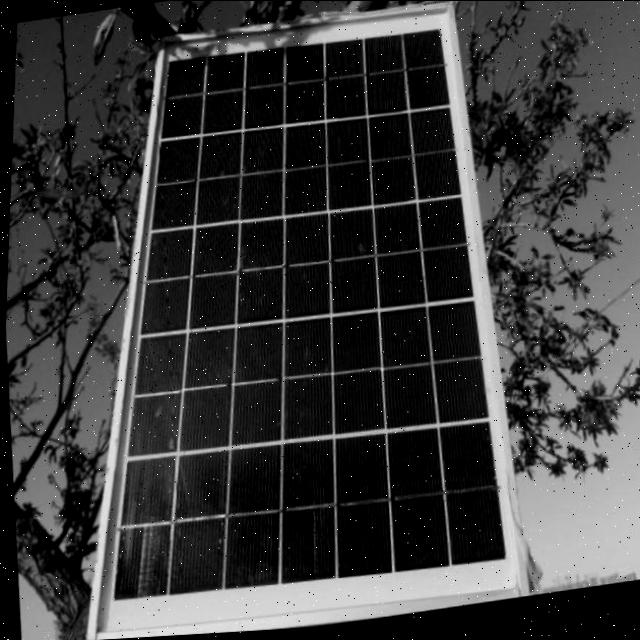Normal Solar Panel: (36, 0, 538, 640)
